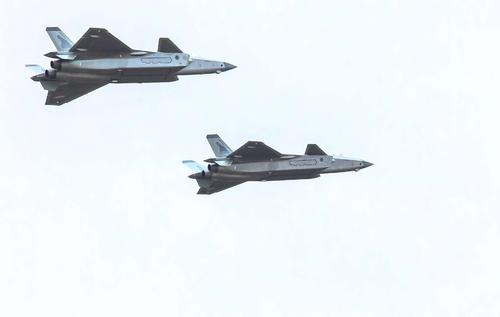J20: (24, 26, 238, 106), (181, 133, 376, 195)
